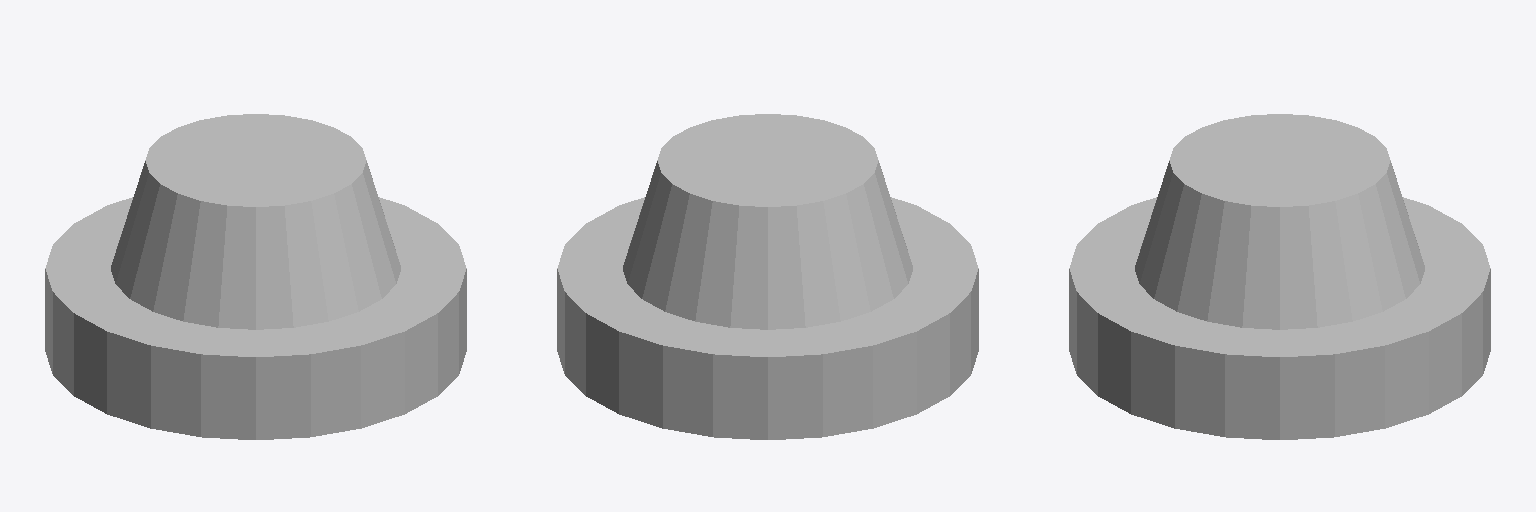
The model's file is TurretBase.obj.
The picture shows the model from 3 angles: view 1: azimuth 30°, elevation 25°; view 2: azimuth 150°, elevation 25°; view 3: azimuth 270°, elevation 25°; orthographic projection.
Visible parts, largest first — view 1: weapon_blaster; view 2: weapon_blaster; view 3: weapon_blaster.
Part boxes in pixels (left/top/right/bottom): weapon_blaster: left=45, top=114, right=466, bottom=439; weapon_blaster: left=557, top=114, right=978, bottom=439; weapon_blaster: left=1069, top=114, right=1490, bottom=439.
Bounding box in the file's own units: 0.4598 × 0.23 × 0.4598.